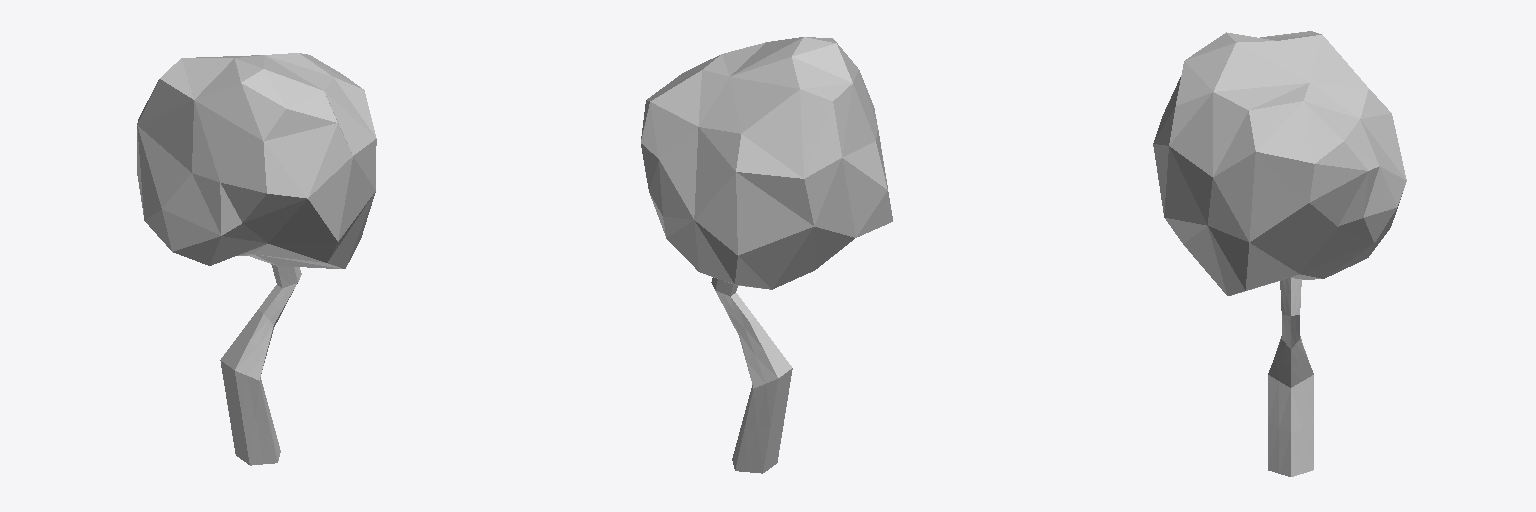
File: tree_xs.obj
3 views of the same model, side by side, from view 1: azimuth 30°, elevation 25°; view 2: azimuth 150°, elevation 25°; view 3: azimuth 270°, elevation 25° (orthographic).
Visible parts, largest first — view 1: Hedra001, Cylinder002; view 2: Hedra001, Cylinder002; view 3: Hedra001, Cylinder002.
Part boxes in pixels (x1,y1,x2,y2): Hedra001: (137, 53, 376, 268); Cylinder002: (220, 264, 301, 465); Hedra001: (641, 37, 892, 289); Cylinder002: (711, 277, 792, 473); Hedra001: (1153, 31, 1406, 295); Cylinder002: (1268, 278, 1313, 476).
Size of the model in its own units: 2.47 by 4.56 by 2.54.